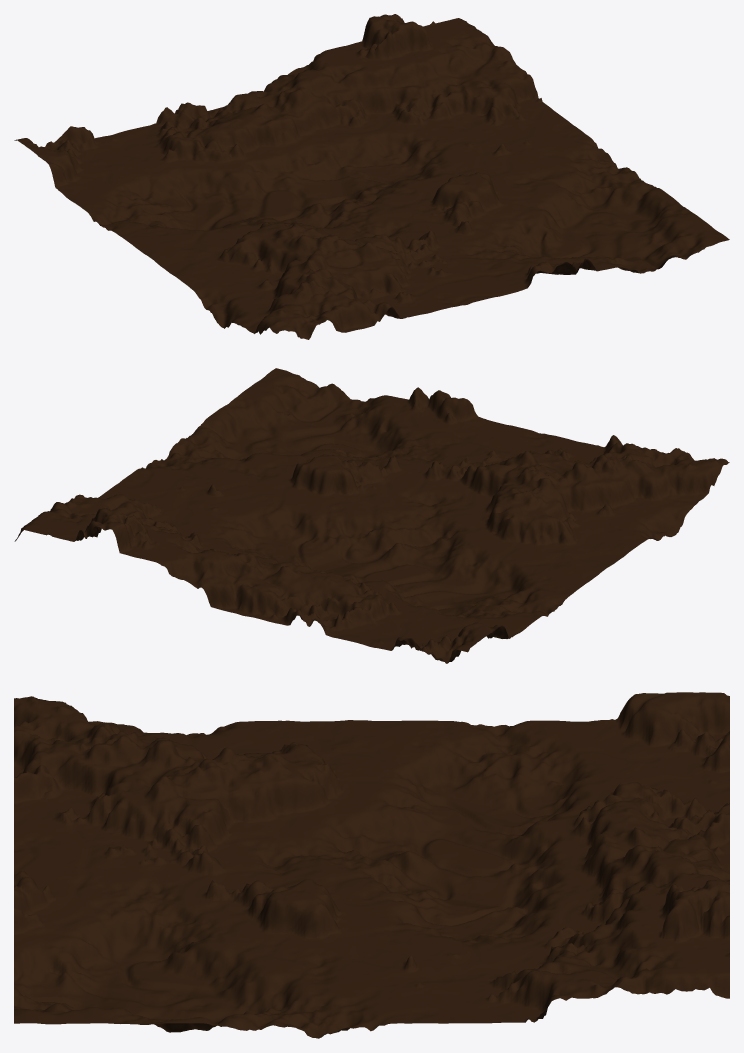
The model's file is 2x2.3_cubes_500m_008.glb.
3 renders of one model, top to bottom at view 1: azimuth 30°, elevation 25°; view 2: azimuth 150°, elevation 25°; view 3: azimuth 270°, elevation 25°, orthographic. The views are drawn at different scales.
Visible parts, largest first — view 1: Cube; view 2: Cube; view 3: Cube.
Boxes of the visible parts, x1,y1,x2,y2 form: Cube: (14, 14, 729, 339); Cube: (14, 368, 729, 663); Cube: (14, 692, 729, 1038).
Bounding box in the file's own units: 500 × 82.05 × 500.
